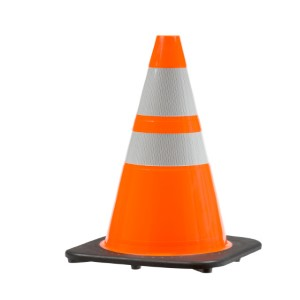traffic cone: (65, 35, 262, 273)
